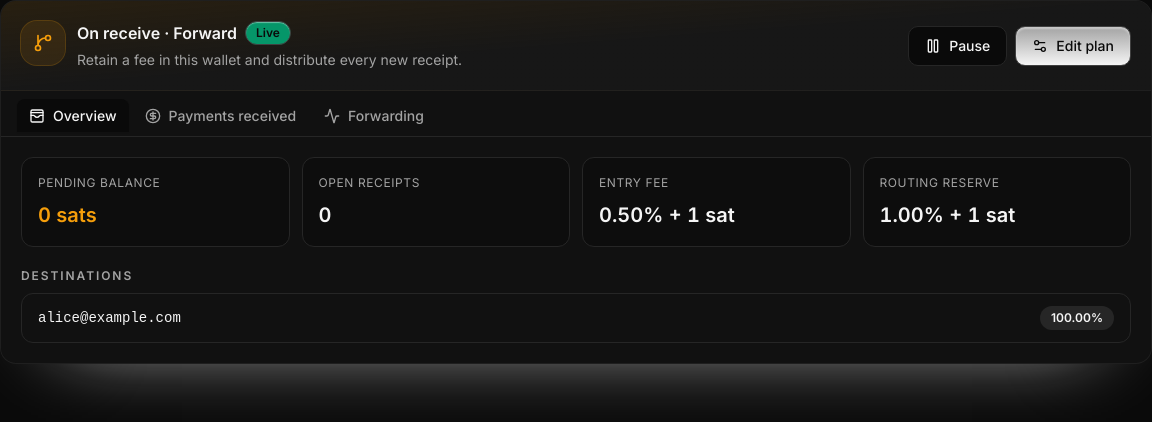
Test: RemoteWalletForwardingPanel › Payments received empty-state copy › uses the conservative message for an inactive wallet with no payments
Click the tab "Payments received": coordinates (220, 116) x1=132 y1=99 x2=308 y2=132
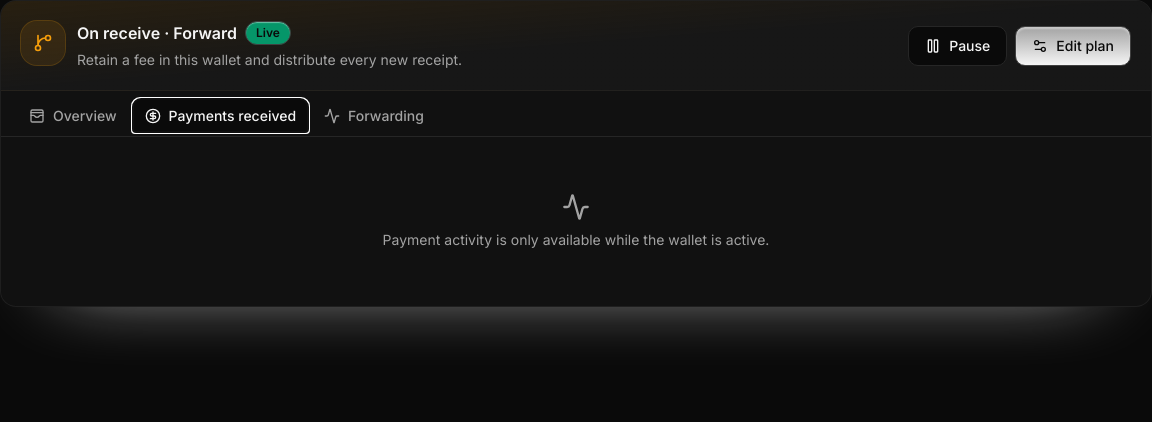
Now the text "Payment activity is only available while the wallet is active." is shown, box x1=383 y1=229 x2=769 y2=250
